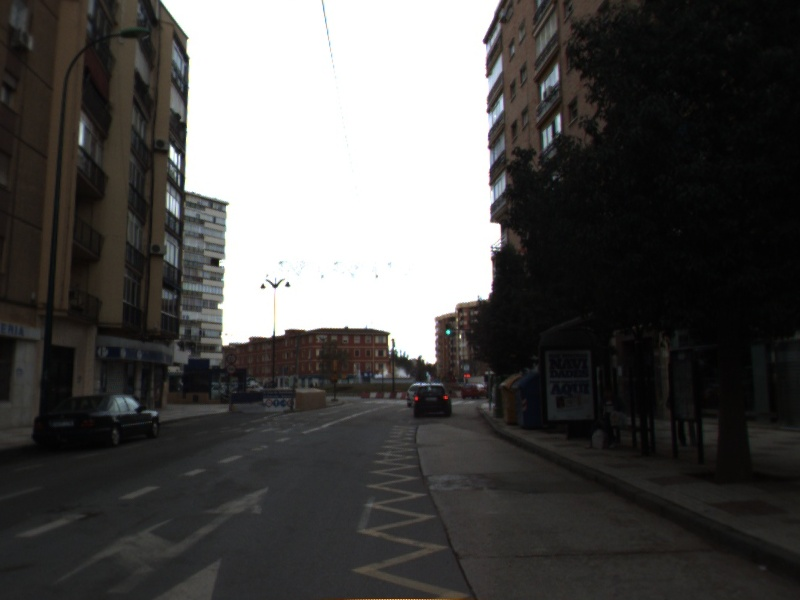STRAIGHT_LEFT: (51, 483, 271, 596)
